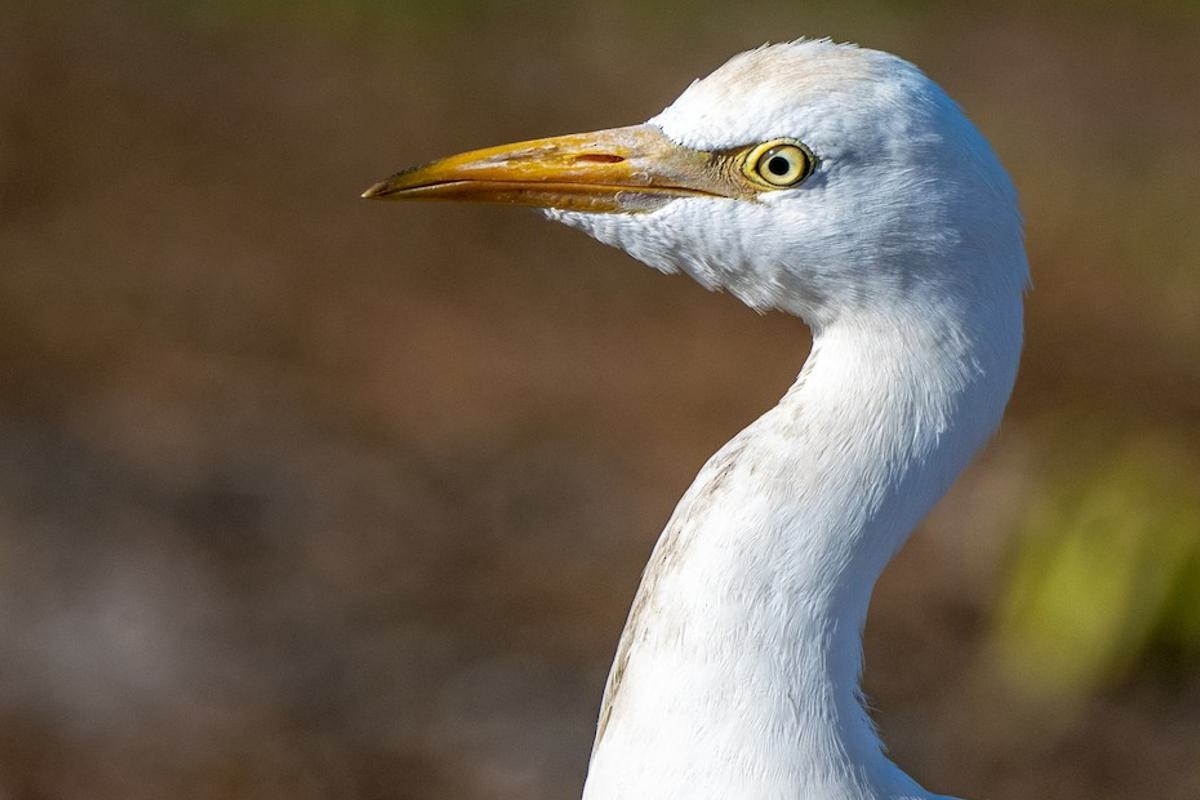egret: (367, 13, 995, 800)
